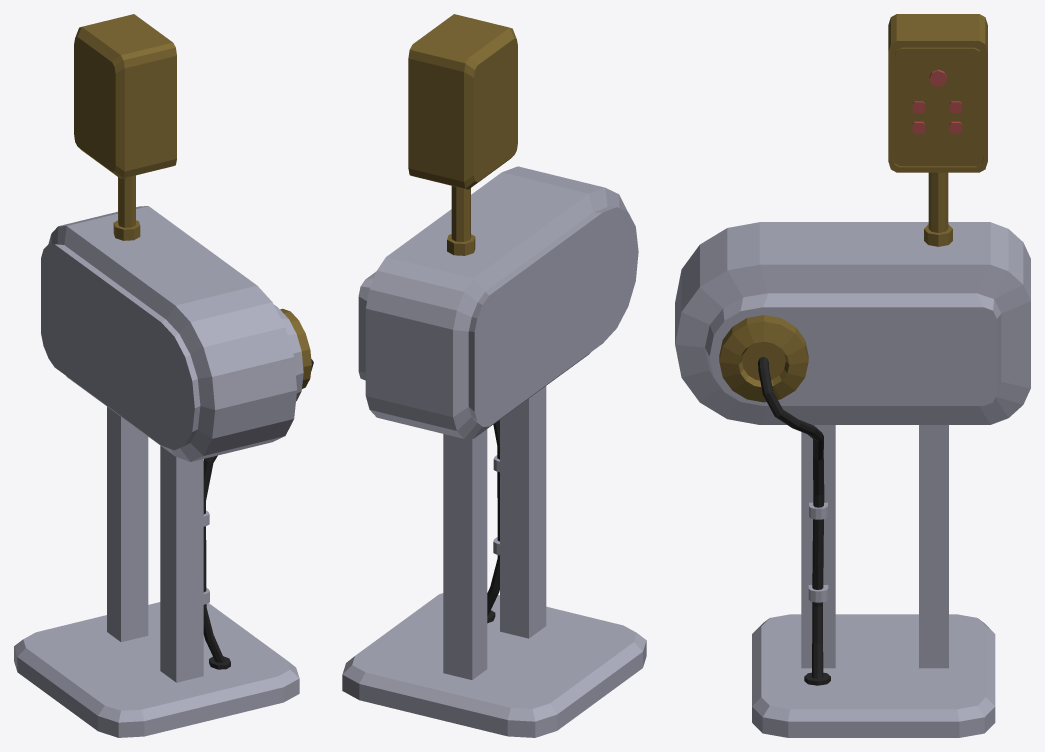
Rendered from Cube_001_factory-conveyer.fbx.
3 renders of one model, left to right at view 1: azimuth 30°, elevation 25°; view 2: azimuth 150°, elevation 25°; view 3: azimuth 270°, elevation 25°, orthographic. The views are drawn at different scales.
Visible parts, largest first — view 1: Cube.001.factory-conveyer; view 2: Cube.001.factory-conveyer; view 3: Cube.001.factory-conveyer.
Boxes of the visible parts, left/top/right/bottom form: Cube.001.factory-conveyer: left=14, top=14, right=313, bottom=737; Cube.001.factory-conveyer: left=342, top=14, right=646, bottom=737; Cube.001.factory-conveyer: left=675, top=14, right=1030, bottom=737.
Size of the model in its own units: 0.4632 by 1.33 by 0.6504.
